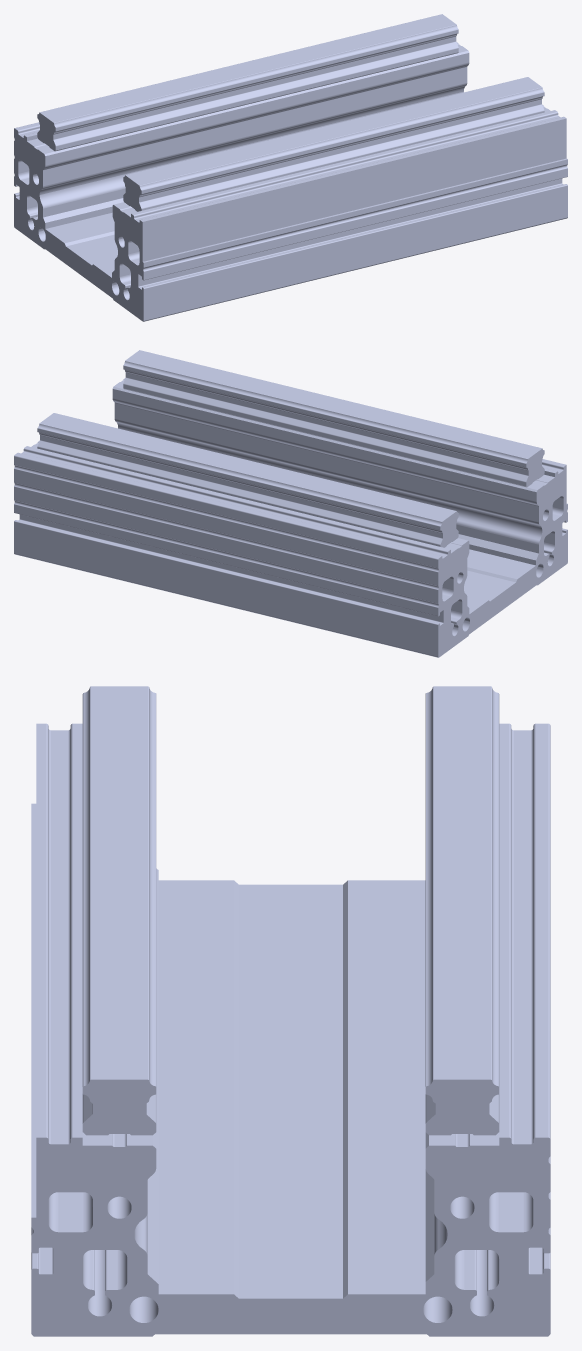
The picture shows the model from 3 angles, top to bottom: view 1: azimuth 30°, elevation 25°; view 2: azimuth 150°, elevation 25°; view 3: azimuth 270°, elevation 25°; orthographic projection. The views are drawn at different scales.
Parts seen in each view (by area): view 1: 106-01-BL_node, EGH15-1_node, EGH15-1_node_1; view 2: 106-01-BL_node, EGH15-1_node_1, EGH15-1_node; view 3: 106-01-BL_node, EGH15-1_node, EGH15-1_node_1.
Part boxes in pixels (x1=…): 106-01-BL_node: x1=14, y1=42, x2=567, y2=321; EGH15-1_node: x1=37, y1=14, x2=458, y2=151; EGH15-1_node_1: x1=123, y1=77, x2=544, y2=211; 106-01-BL_node: x1=14, y1=378, x2=567, y2=657; EGH15-1_node_1: x1=123, y1=350, x2=544, y2=487; EGH15-1_node: x1=37, y1=413, x2=458, y2=547; 106-01-BL_node: x1=31, y1=723, x2=550, y2=1336; EGH15-1_node: x1=425, y1=686, x2=499, y2=1135; EGH15-1_node_1: x1=82, y1=686, x2=156, y2=1135.
Size of the model in its own units: 200 by 55.5 by 106.
